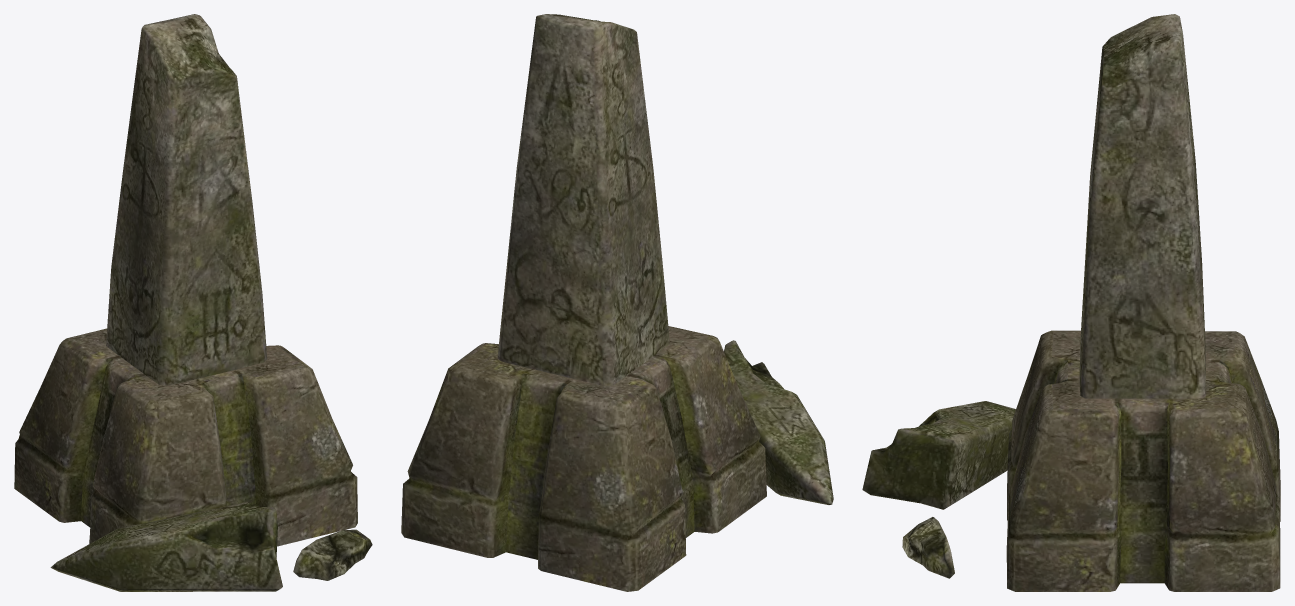
File: Temple_Obelisk_Broken-transformed.glb
The picture shows the model from 3 angles, left to right: view 1: azimuth 30°, elevation 25°; view 2: azimuth 150°, elevation 25°; view 3: azimuth 270°, elevation 25°; orthographic projection. The views are drawn at different scales.
Parts seen in each view (by area): view 1: default; view 2: default; view 3: default.
Boxes of the visible parts, x1,y1,x2,y2 form: default: (14,14,372,591); default: (401,14,833,591); default: (862,14,1280,591).
Bounding box in the file's own units: 2.35 × 3.63 × 2.71.
1 material, 1 textured.
